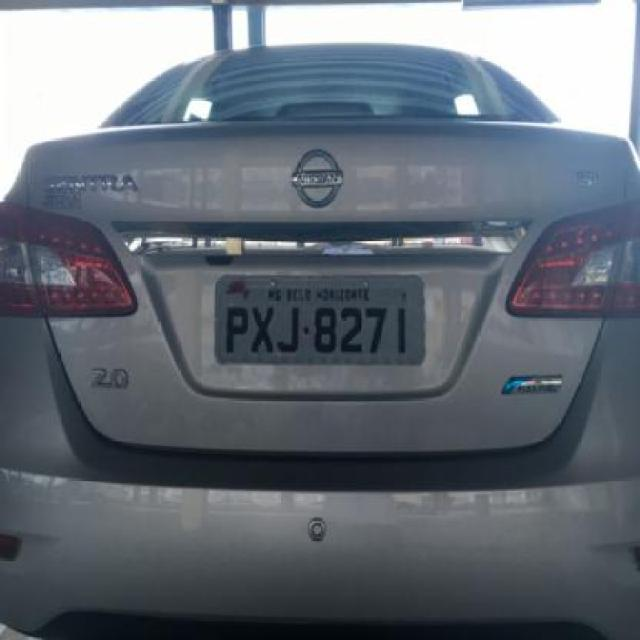old_plate: (206, 264, 432, 376)
